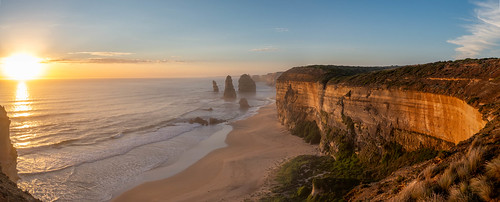sea: (1, 74, 257, 196)
sky: (11, 1, 500, 71)
sun: (1, 47, 56, 79)
